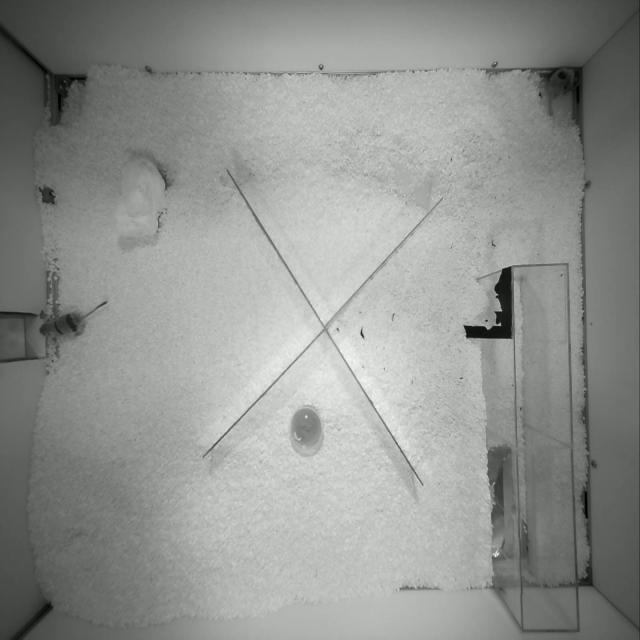pup_h_stripe: (40, 301, 107, 335)
pup_spotted: (541, 68, 578, 115)
